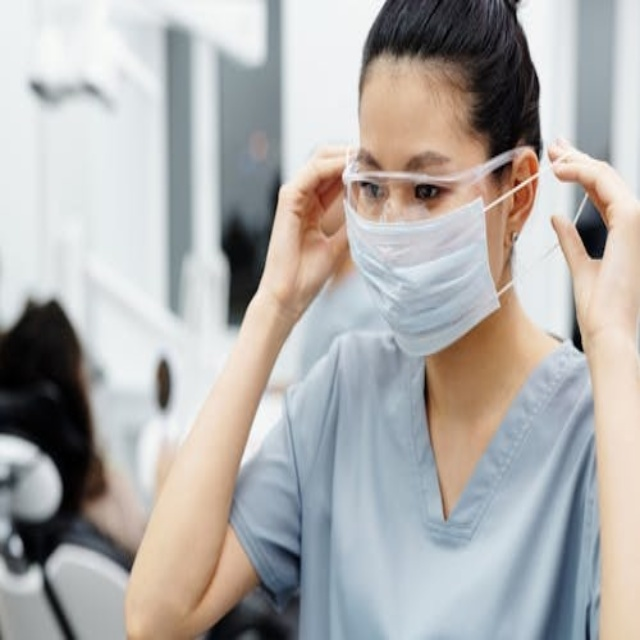Gafas: (342, 144, 535, 223)
Mascara: (342, 148, 523, 358)
Sin_guantes: (256, 138, 356, 329), (545, 127, 635, 334)
